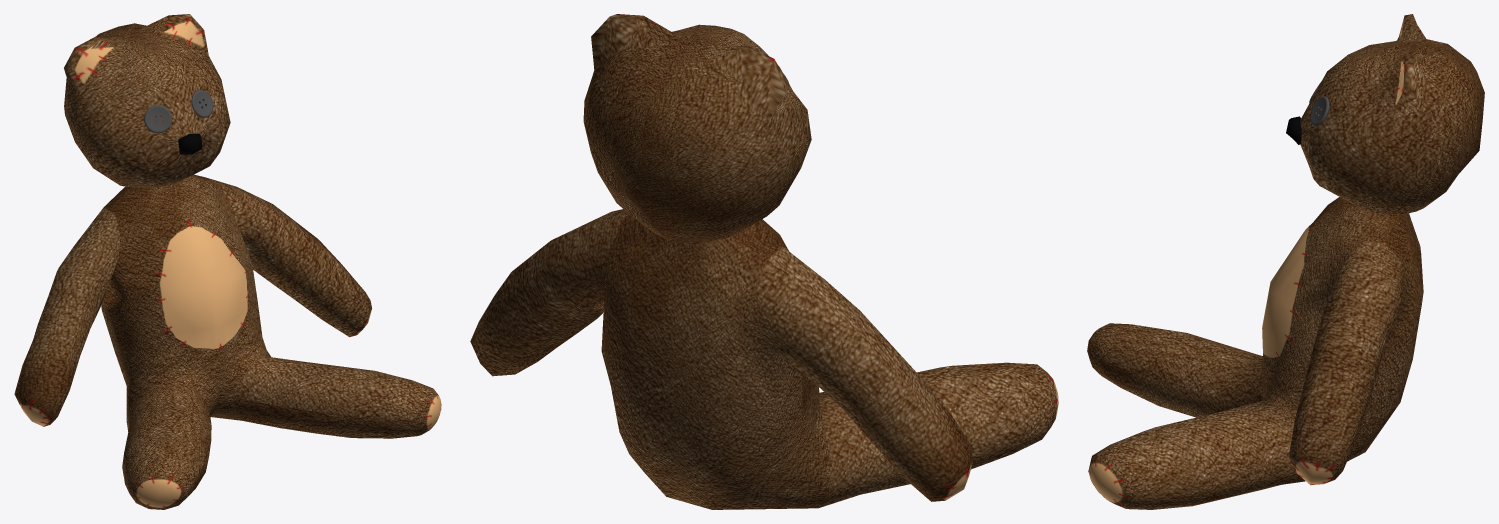
The model's file is Teddy.FBX.
3 views of the same model, side by side, from view 1: azimuth 30°, elevation 25°; view 2: azimuth 150°, elevation 25°; view 3: azimuth 270°, elevation 25° (orthographic). The views are drawn at different scales.
Visible parts, largest first — view 1: Teddy; view 2: Teddy; view 3: Teddy.
Boxes of the visible parts, x1=… form: Teddy: x1=14, y1=14, x2=441, y2=509; Teddy: x1=470, y1=14, x2=1058, y2=509; Teddy: x1=1087, y1=14, x2=1484, y2=509.
Bounding box in the file's own units: 43.38 × 38.85 × 44.28.
